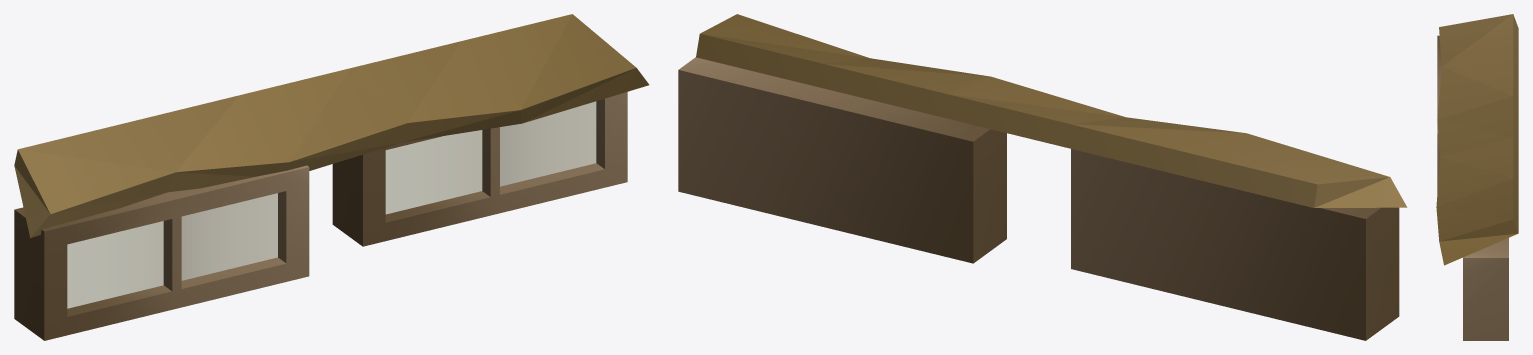
File: Farmhouse_2xWindows.fbx
The picture shows the model from 3 angles, left to right: view 1: azimuth 30°, elevation 25°; view 2: azimuth 150°, elevation 25°; view 3: azimuth 270°, elevation 25°; orthographic projection. The views are drawn at different scales.
Parts seen in each view (by area): view 1: Farmhouse_2xWindows; view 2: Farmhouse_2xWindows; view 3: Farmhouse_2xWindows.
Part boxes in pixels (box(x1,y1,x2,y2)): Farmhouse_2xWindows: box(14, 14, 649, 340); Farmhouse_2xWindows: box(678, 14, 1407, 340); Farmhouse_2xWindows: box(1436, 14, 1518, 340).
Bounding box in the file's own units: 2.9 × 0.6676 × 0.4383.
1 material, 1 textured.
